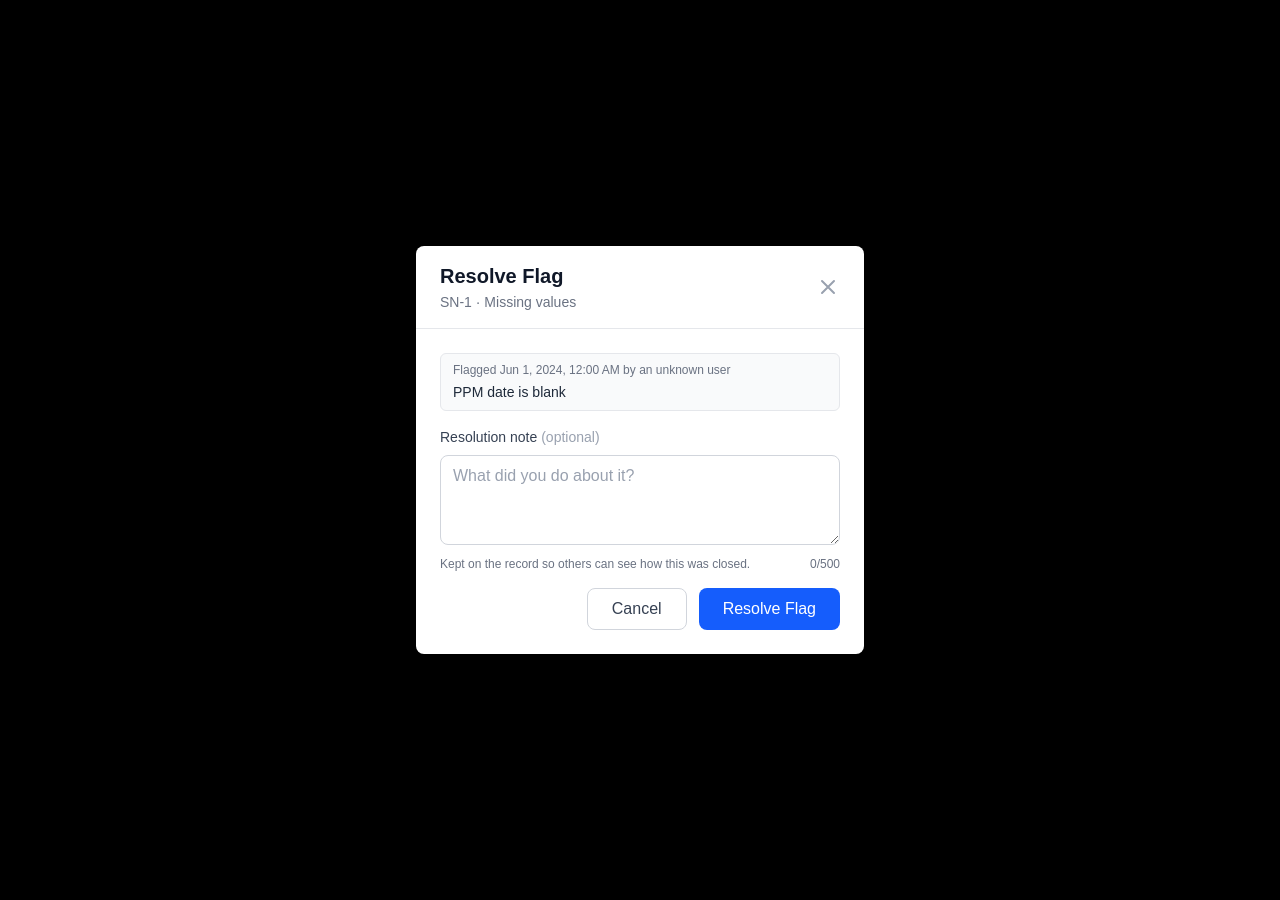
Scenario: ResolveFlagModal › keeps the modal open and shows the error when resolving fails
The image size is (1280, 900).
Click the button "Resolve Flag".
click(769, 609)  # box [699,588,840,630]
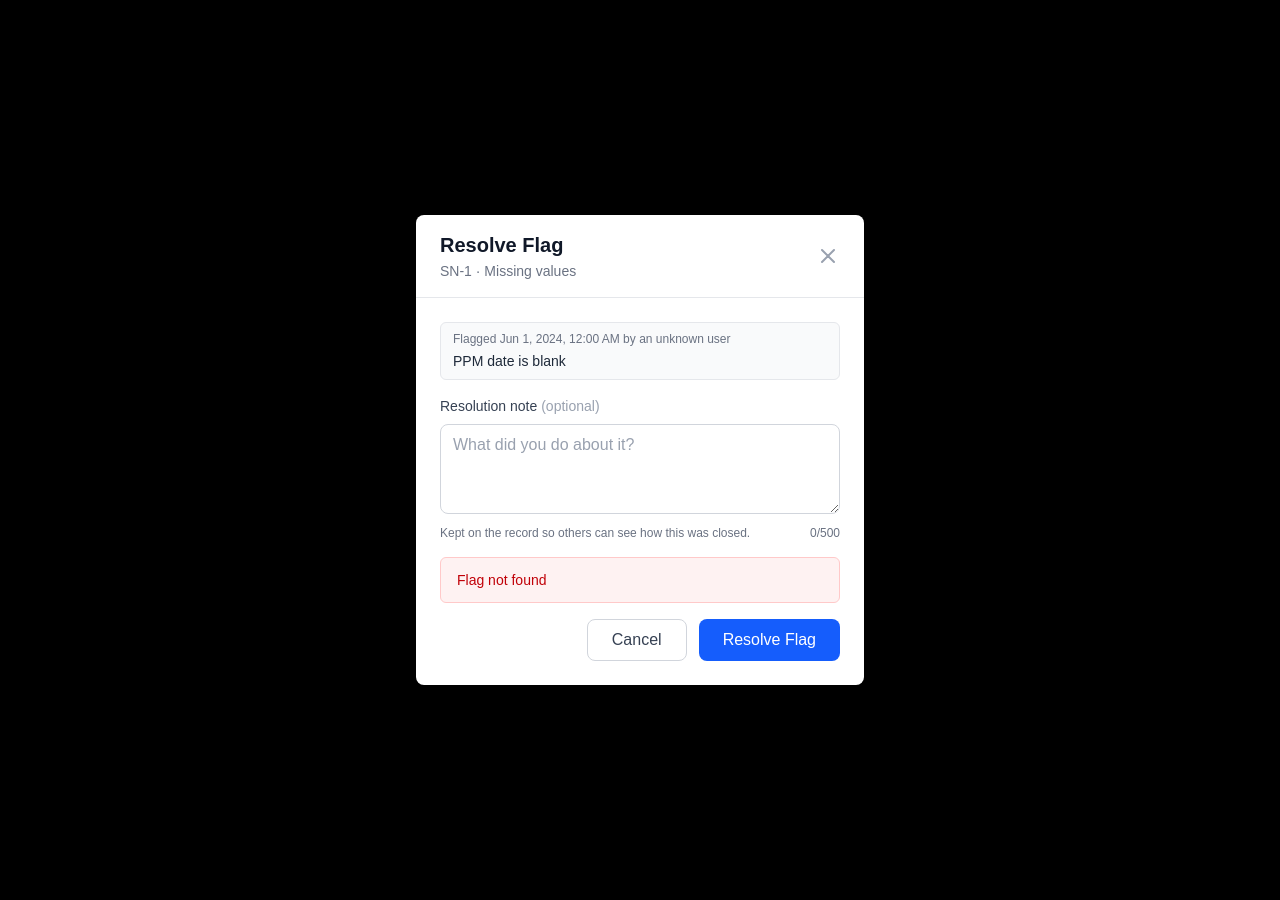
Now the text "Flag not found" is shown, box [440,557,840,603]
